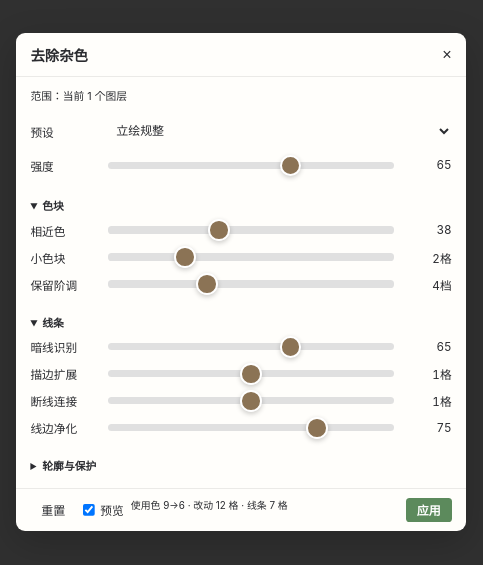
Test: 去除杂色工具窗 › 删除自定义预设必须二次确认，确认后同步移除持久化数据
The image size is (483, 565).
Set the slider labelled "强度 65" to "70" at [305, 165], box [108,162,394,169]
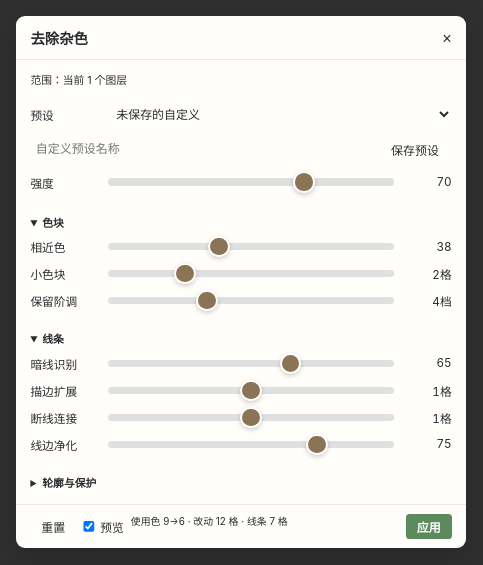
Type "待删除" into the field with placeholder "自定义预设名称" at [204, 149], box [30,137,378,161]
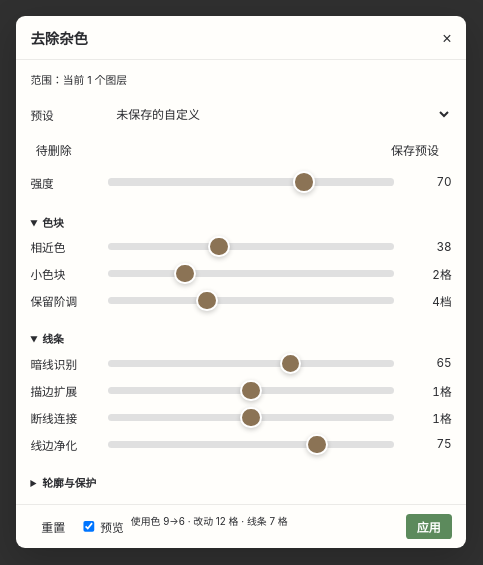
Click the button "保存预设" at [415, 149], box [384,137,446,161]
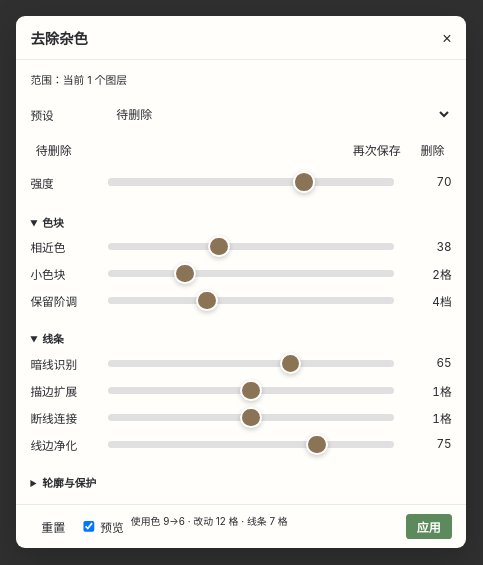
Click the button "删除" at [432, 149], box [413,137,452,161]
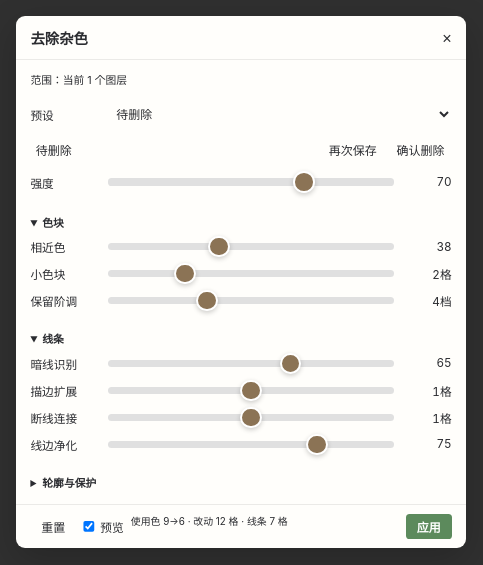
Result: the button "确认删除" is shown
Click the button "确认删除" at [420, 149], box [389,137,452,161]
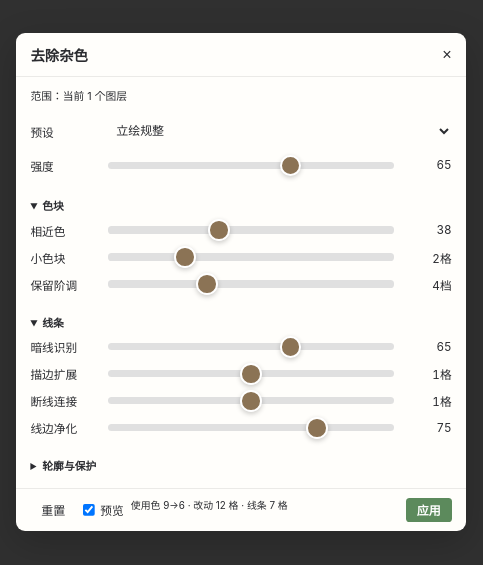
Result: the dropdown labelled "预设" shows "立绘规整" at [108,121,452,142]
